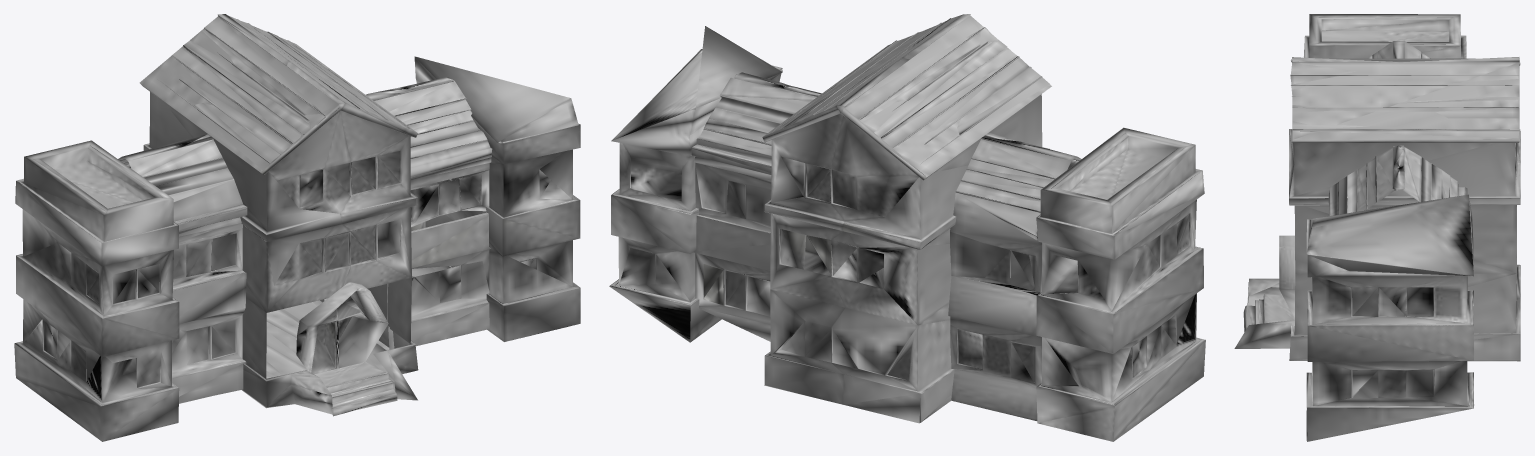
Rendered from 31-school-building.glb.
3 renders of one model, left to right at view 1: azimuth 30°, elevation 25°; view 2: azimuth 150°, elevation 25°; view 3: azimuth 270°, elevation 25°, orthographic. The views are drawn at different scales.
Parts seen in each view (by area): view 1: geometry_0; view 2: geometry_0; view 3: geometry_0.
Part boxes in pixels (x1,y1,x2,y2): geometry_0: (14, 14, 580, 441); geometry_0: (609, 14, 1205, 441); geometry_0: (1234, 14, 1520, 441).
Bounding box in the file's own units: 0.9561 × 0.545 × 0.5229.
1 material, 1 textured.
